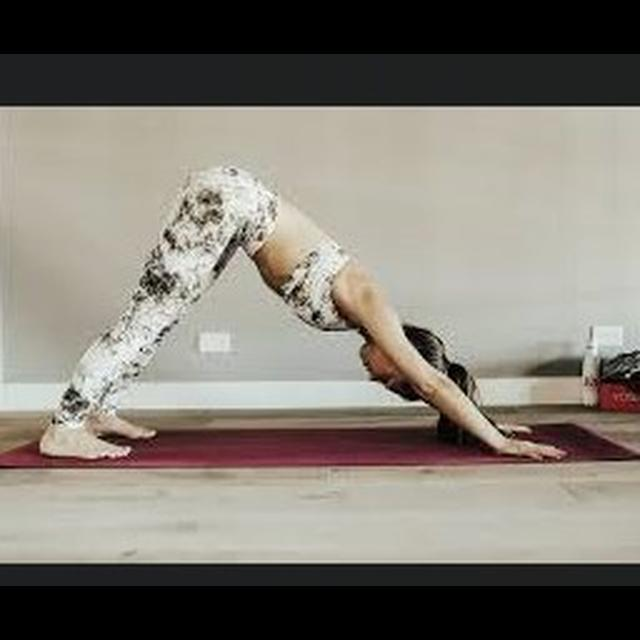Downward-Facing_Dog: (38, 156, 567, 465)
